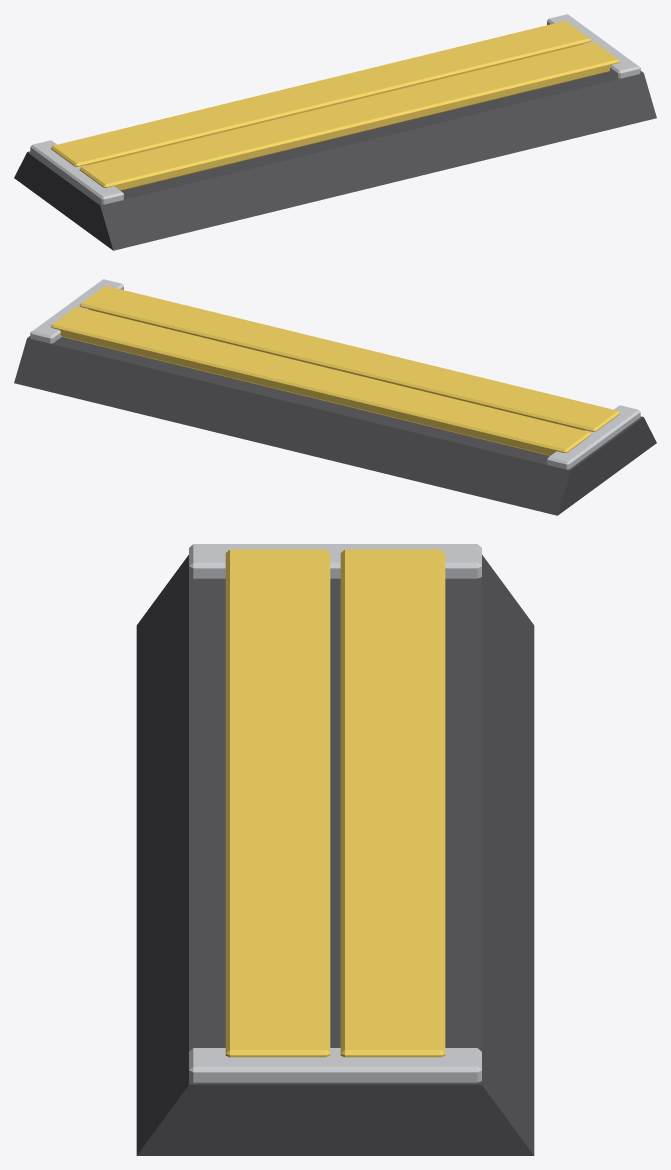
File: live-music-venue-and-festival-stage-cable-ramp-6576a82f.glb
3 views of the same model, one above another, from view 1: azimuth 30°, elevation 25°; view 2: azimuth 150°, elevation 25°; view 3: azimuth 270°, elevation 25° (orthographic). The views are drawn at different scales.
Parts seen in each view (by area): view 1: cable-ramp; view 2: cable-ramp; view 3: cable-ramp.
Boxes of the visible parts, bbox=[...] form: cable-ramp: bbox=[14, 14, 656, 250]; cable-ramp: bbox=[14, 279, 656, 515]; cable-ramp: bbox=[136, 544, 534, 1155].
Size of the model in its own units: 1.2 by 0.096 by 0.38.
